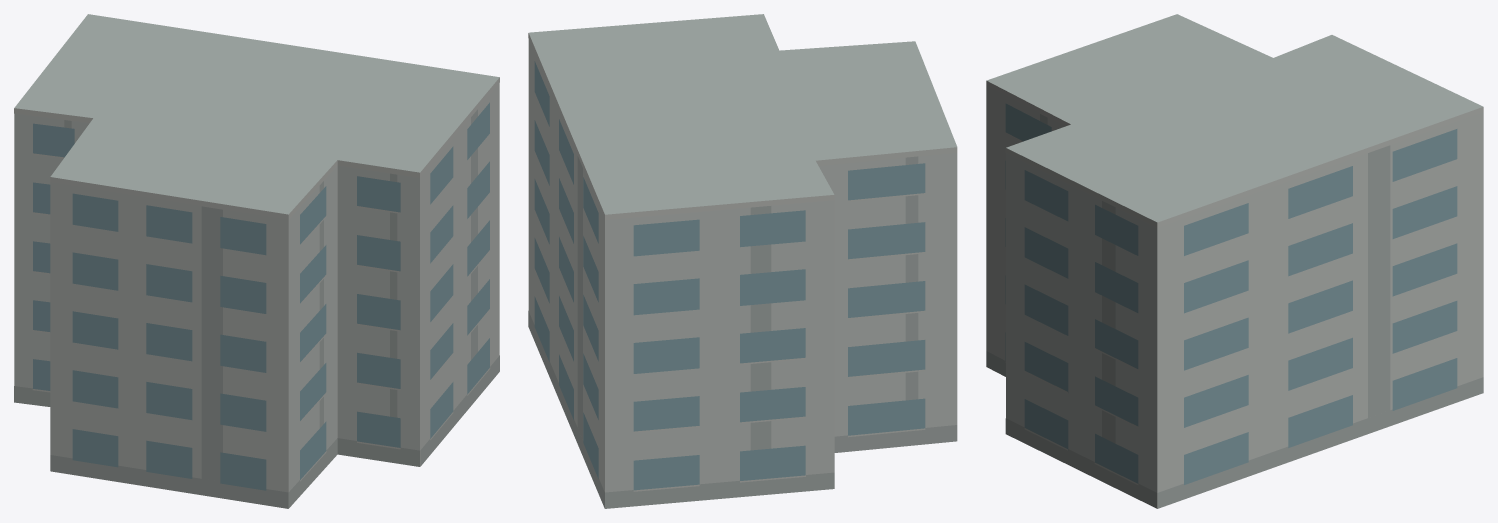
File: survey-upis-32942889.glb
The picture shows the model from 3 angles, left to right: view 1: azimuth 30°, elevation 25°; view 2: azimuth 150°, elevation 25°; view 3: azimuth 270°, elevation 25°; orthographic projection. The views are drawn at different scales.
Visible parts, largest first — view 1: survey-upis-32942889.tmp; view 2: survey-upis-32942889.tmp; view 3: survey-upis-32942889.tmp.
Boxes of the visible parts, left/top/right/bottom form: survey-upis-32942889.tmp: left=14, top=14, right=499, bottom=508; survey-upis-32942889.tmp: left=528, top=14, right=957, bottom=508; survey-upis-32942889.tmp: left=986, top=14, right=1483, bottom=508.
Bounding box in the file's own units: 20.31 × 13 × 20.47.
